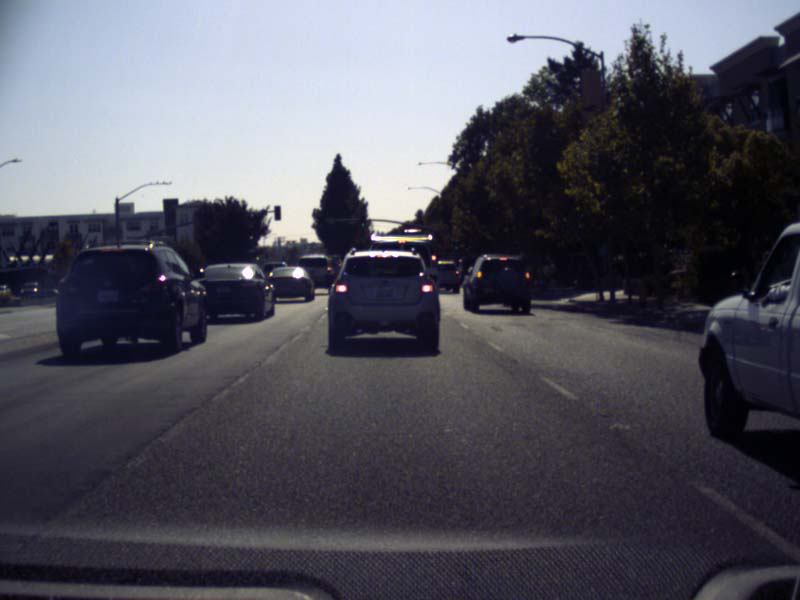Green: (359, 215, 365, 230)
